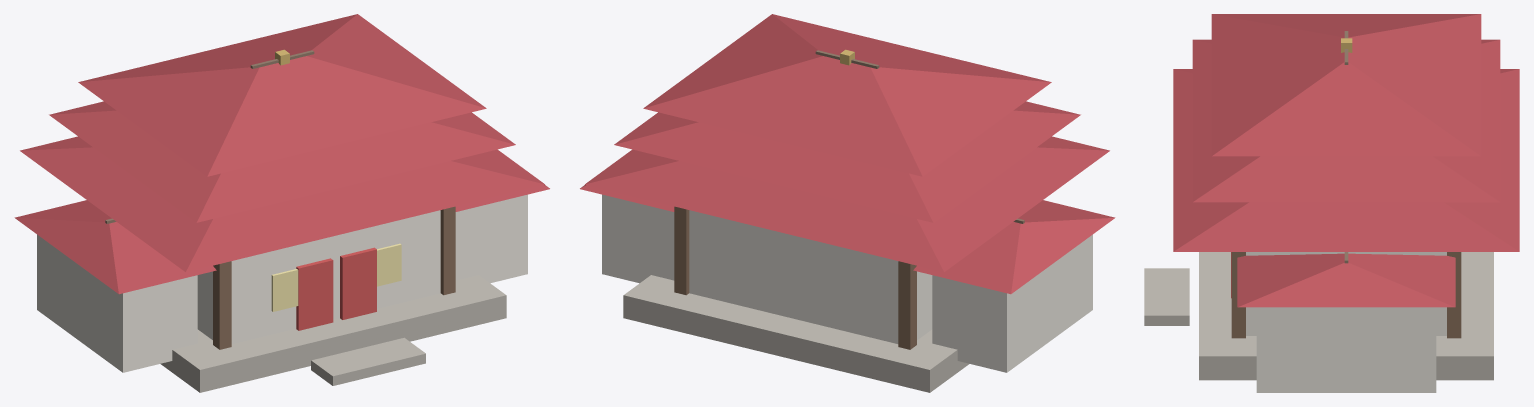
Rendered from landmark_palace.glb.
3 views of the same model, side by side, from view 1: azimuth 30°, elevation 25°; view 2: azimuth 150°, elevation 25°; view 3: azimuth 270°, elevation 25° (orthographic). The views are drawn at different scales.
Bounding box in the file's own units: 13.77 × 7.65 × 9.95.
